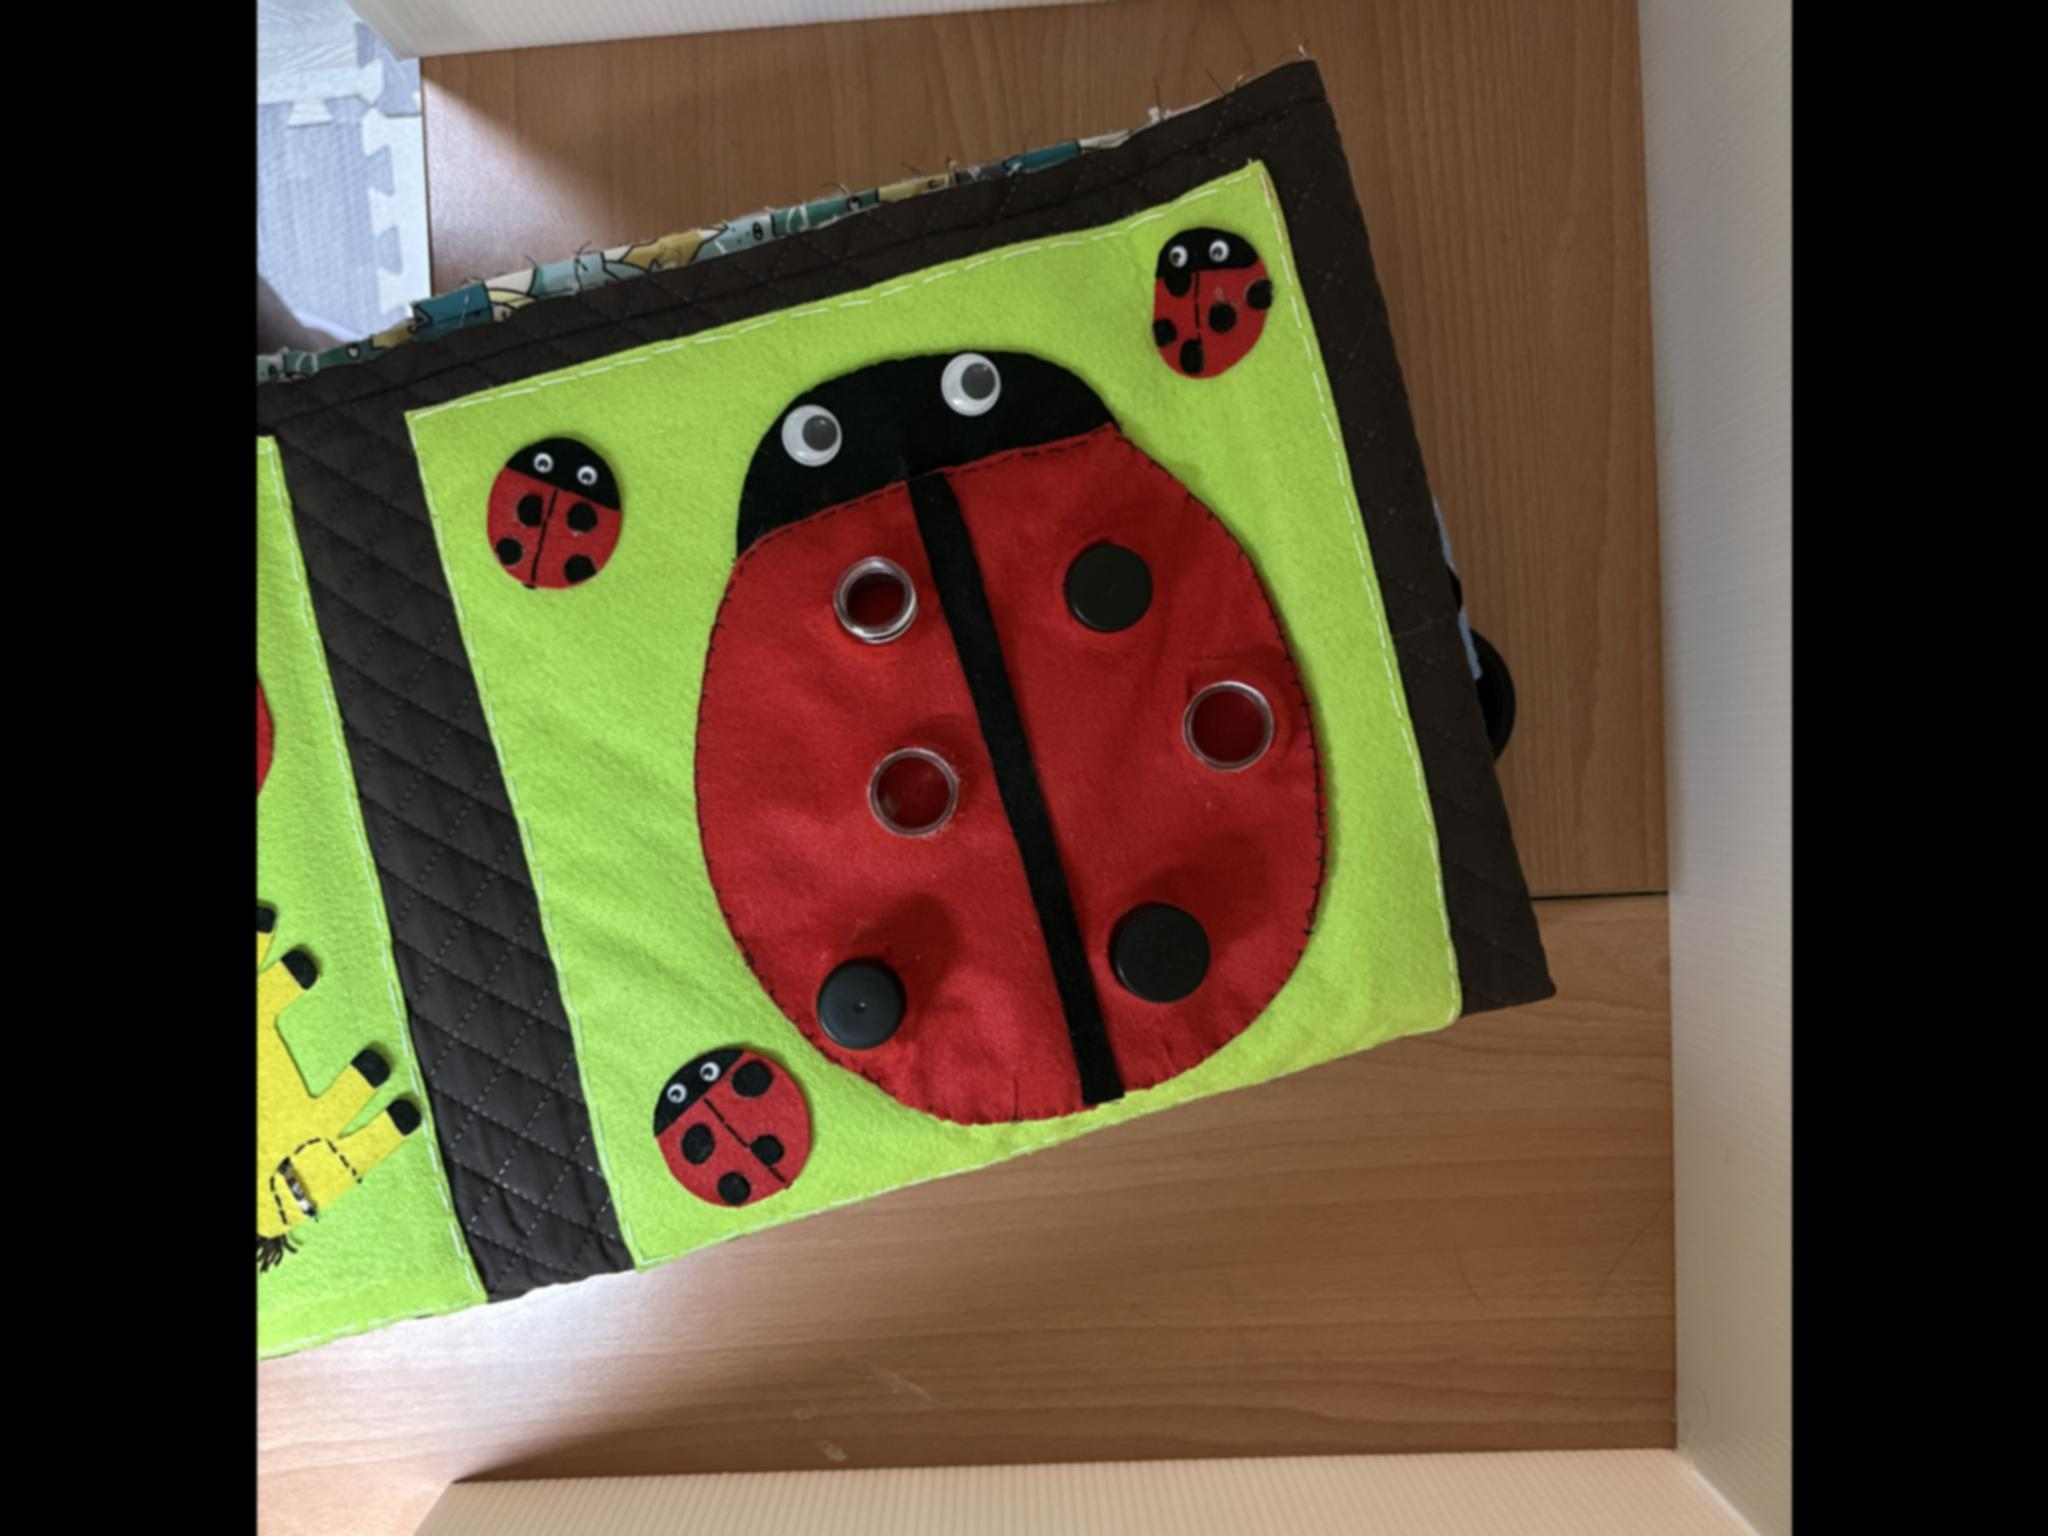cap_ok: (1090, 889, 1222, 1021), (1047, 534, 1168, 650), (795, 945, 916, 1062)
